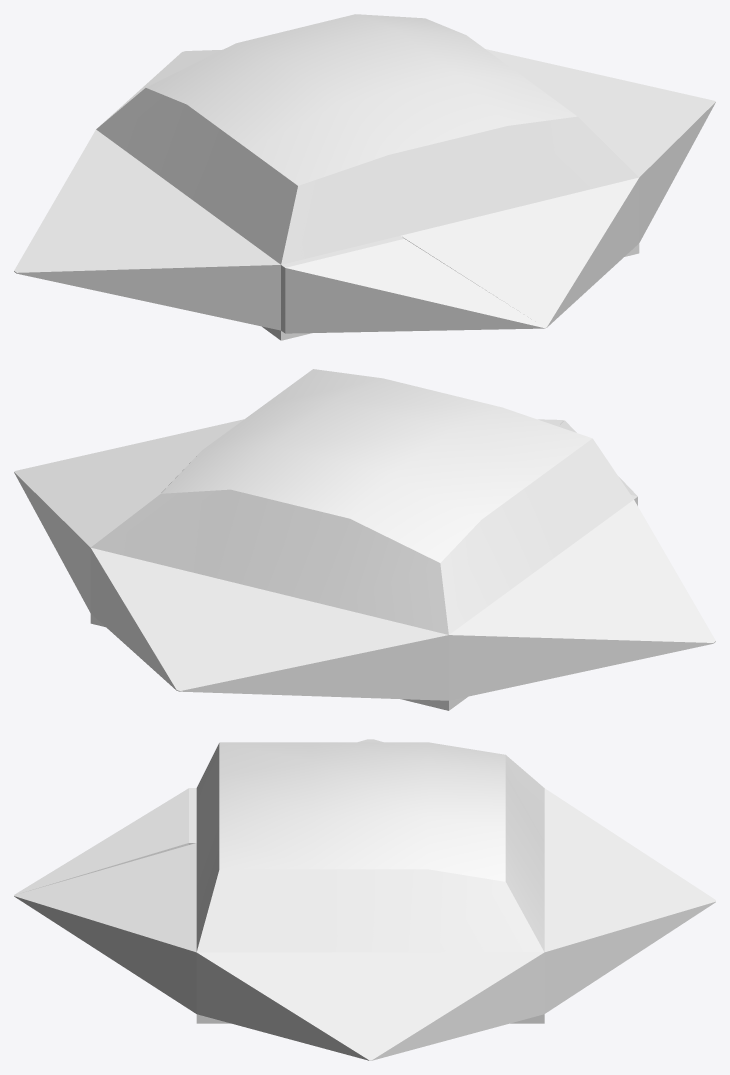
The model's file is Enemy.FBX.
3 views of the same model, one above another, from view 1: azimuth 30°, elevation 25°; view 2: azimuth 150°, elevation 25°; view 3: azimuth 270°, elevation 25° (orthographic). The views are drawn at different scales.
Visible parts, largest first — view 1: Box001; view 2: Box001; view 3: Box001.
Part boxes in pixels (left/top/right/bottom): Box001: left=14, top=14, right=715, bottom=340; Box001: left=14, top=369, right=715, bottom=710; Box001: left=14, top=739, right=715, bottom=1060.
Size of the model in its own units: 96.54 by 89.22 by 23.
1 material, 1 textured.
